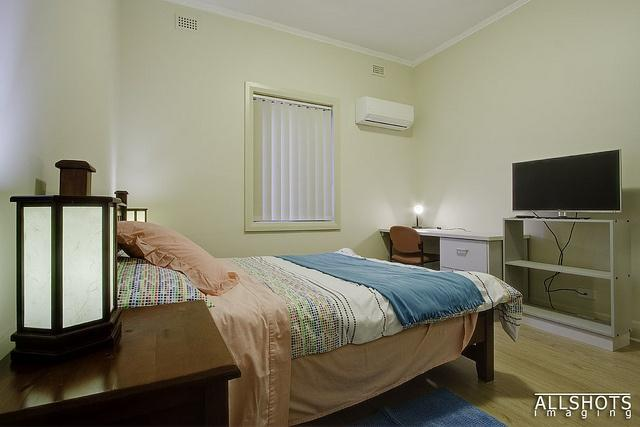AC: (355, 96, 414, 133)
AIO PC-Monitor-TV: (509, 148, 622, 218)
Kursi: (387, 224, 439, 267)
Meja: (377, 226, 530, 278)
Rak: (501, 217, 633, 351)
